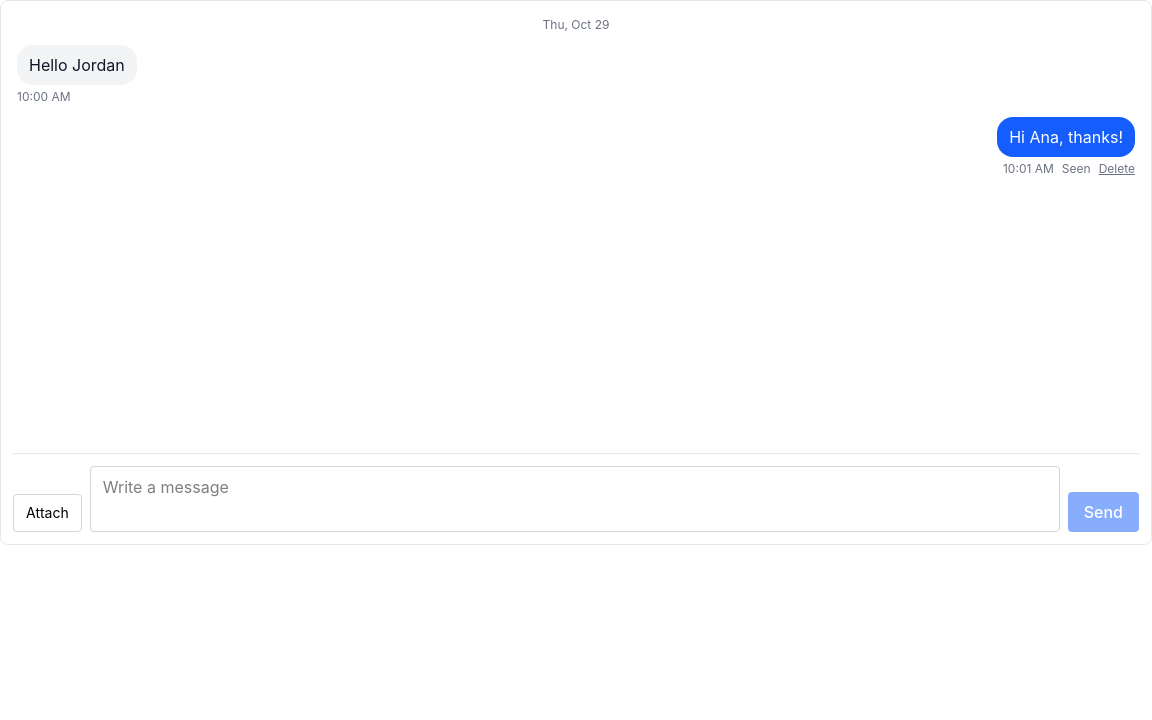
Test: Chat › sends with Enter, and retries a failed send with the same client id
Expected: the text "Hello Jordan" is shown, x1=29 y1=53 x2=125 y2=77
Type "Monday works" into the text box labelled "message". click: (575, 499)
box: x1=90 y1=466 x2=1060 y2=532
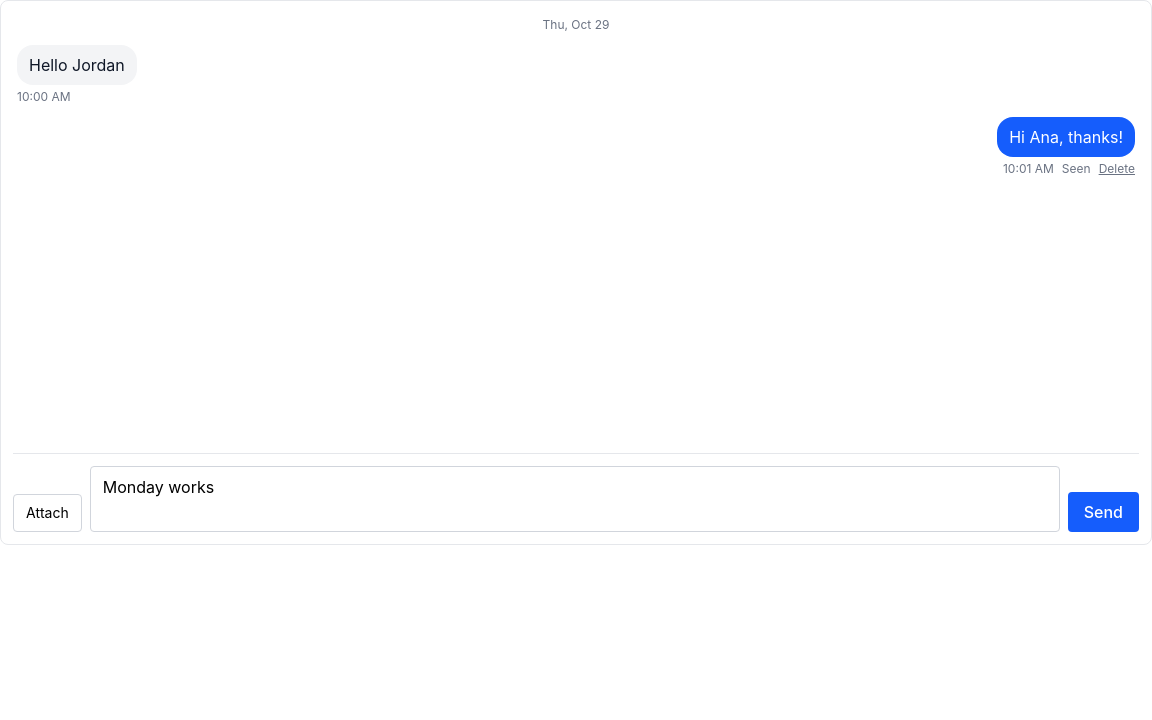
Press Enter in the text box named "message", box x1=90 y1=466 x2=1060 y2=532
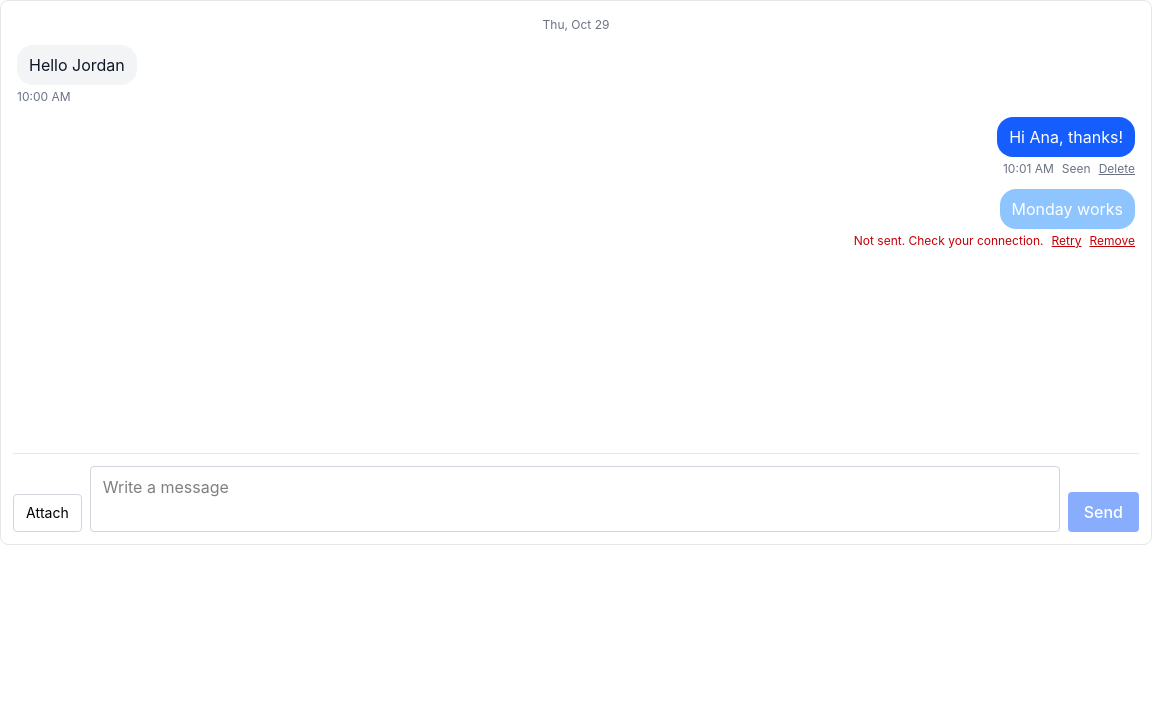
Expected: the text "Not sent. Check your connection." is shown, x1=854 y1=233 x2=1044 y2=249
Expected: the text box labelled "message" is empty, x1=90 y1=466 x2=1060 y2=532
Click the button "Retry". click: (1066, 241)
box: x1=1052 y1=233 x2=1081 y2=249
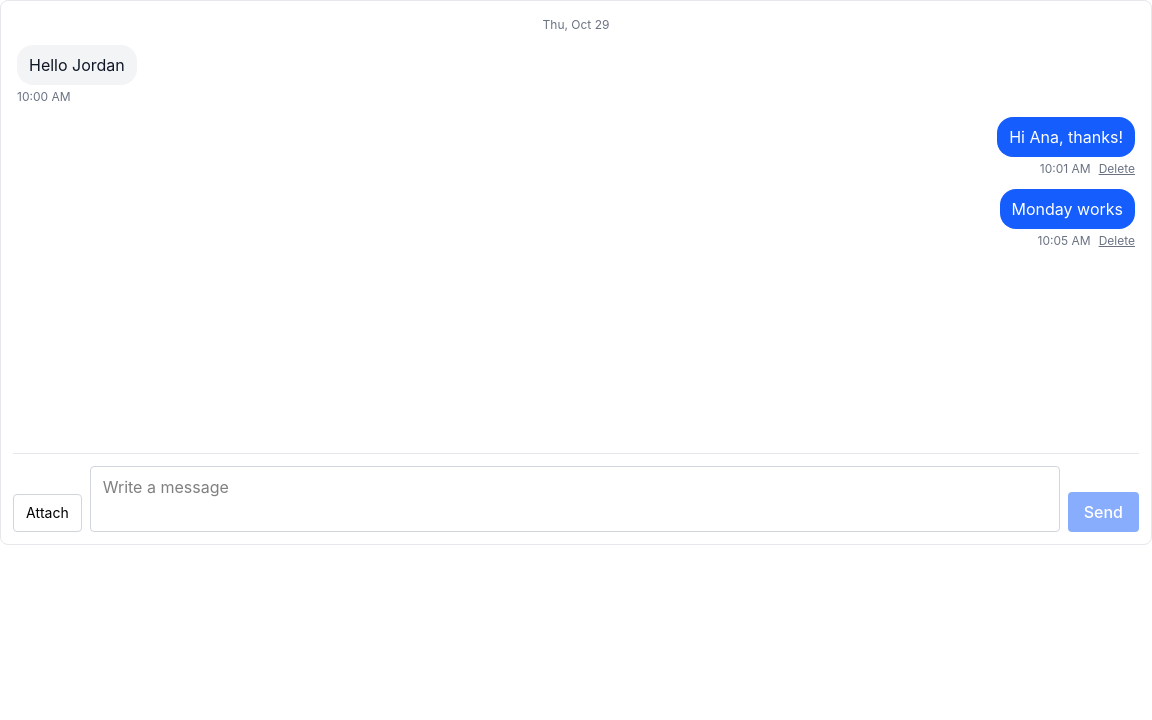
Expected: the text "Not sent. Check your connection." is gone
